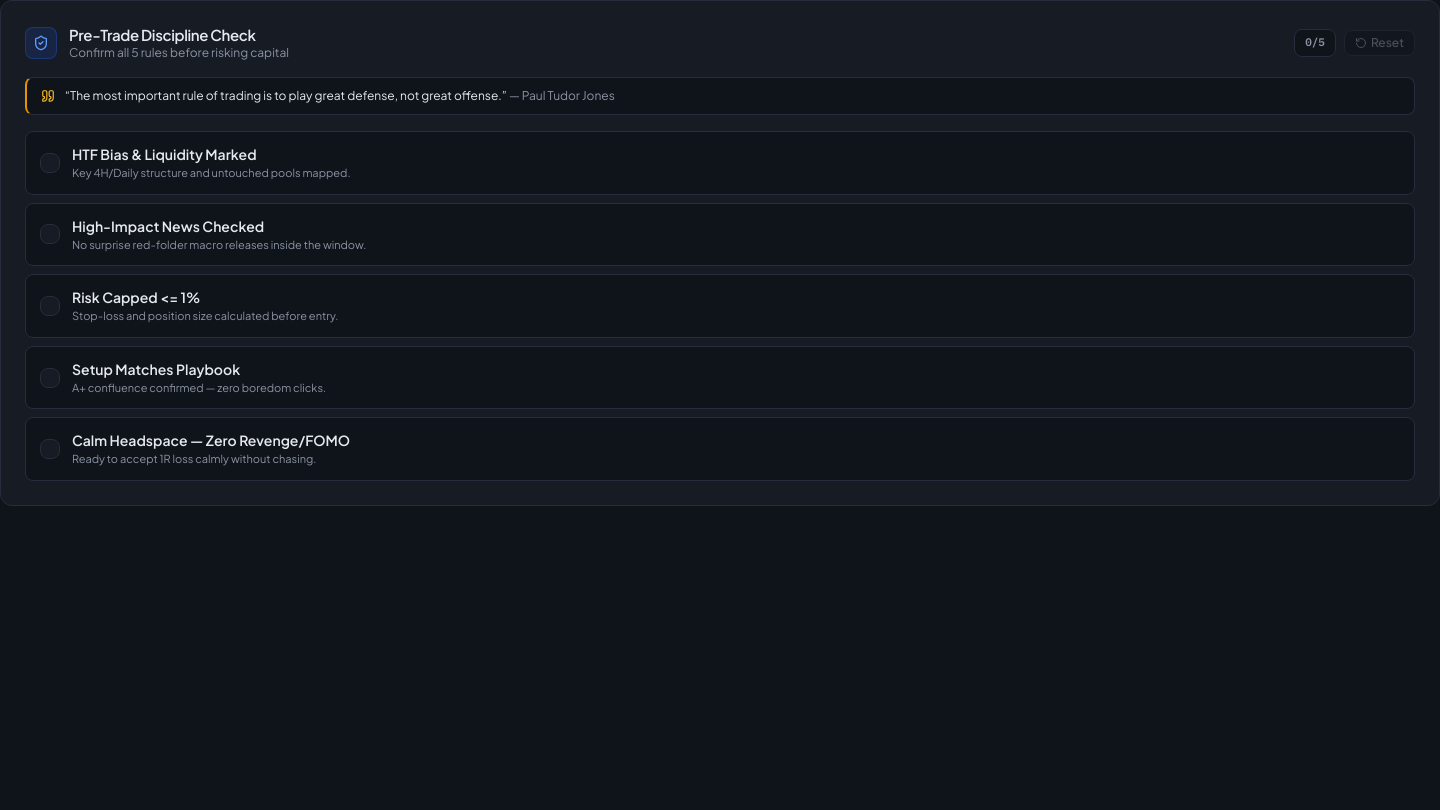
Learning Loop UI integration — PreTradeChecklistCard & ErrorBoundary › displays "Ready to Execute" after checking all 5 PreTradeChecklistCard items and clears cleanly on Reset
This screenshot has width=1440, height=810.
Expected: the heading "Pre-Trade Discipline Check" is shown, [69,25,256,44]
Expected: the text "Ready to Execute" is not shown
Click the checkbox that starts with "HTF Bias & Liquidity Marked".
click(164, 154)  # box [25,131,1415,195]
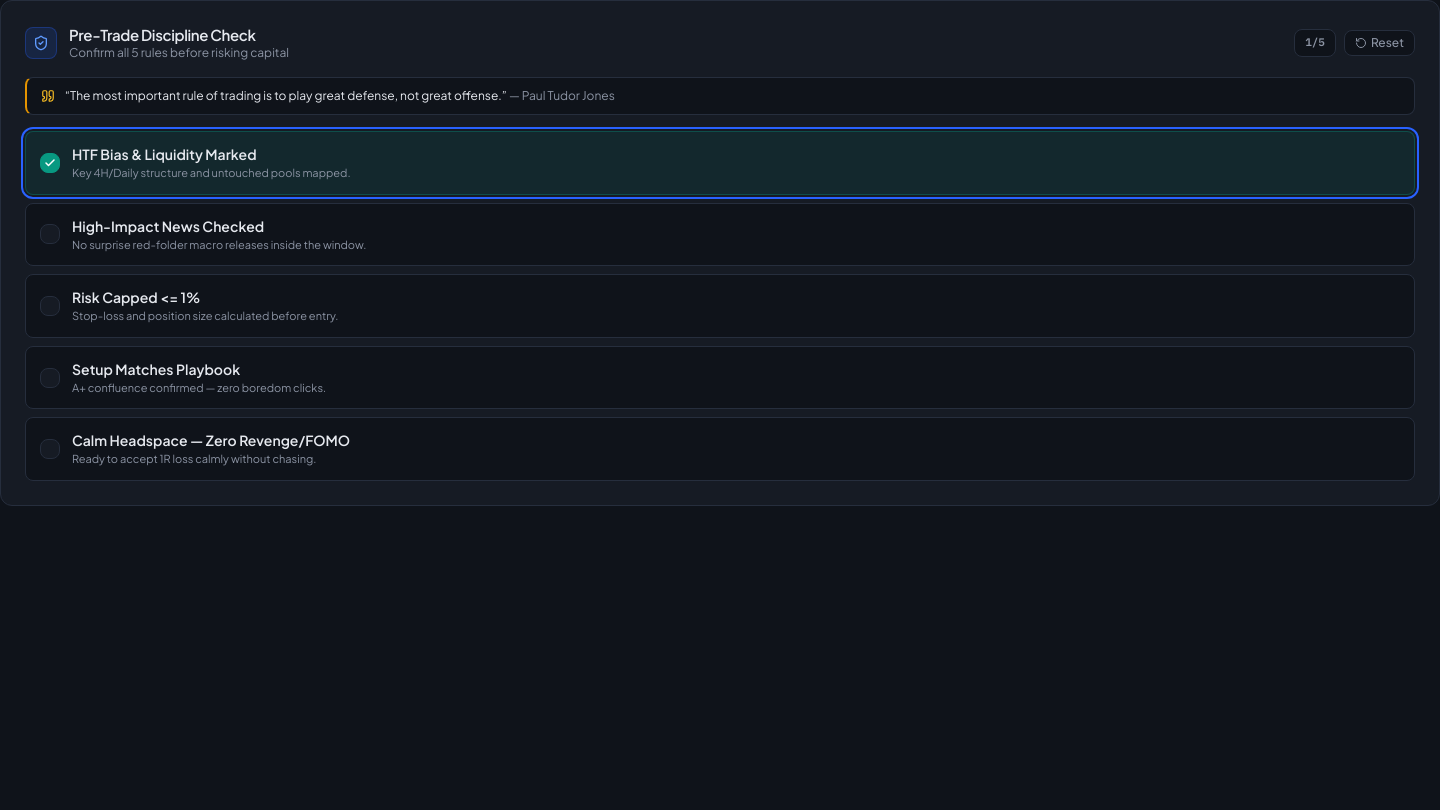
Click the checkbox that starts with "High-Impact News Checked".
click(168, 226)  # box [25,203,1415,266]
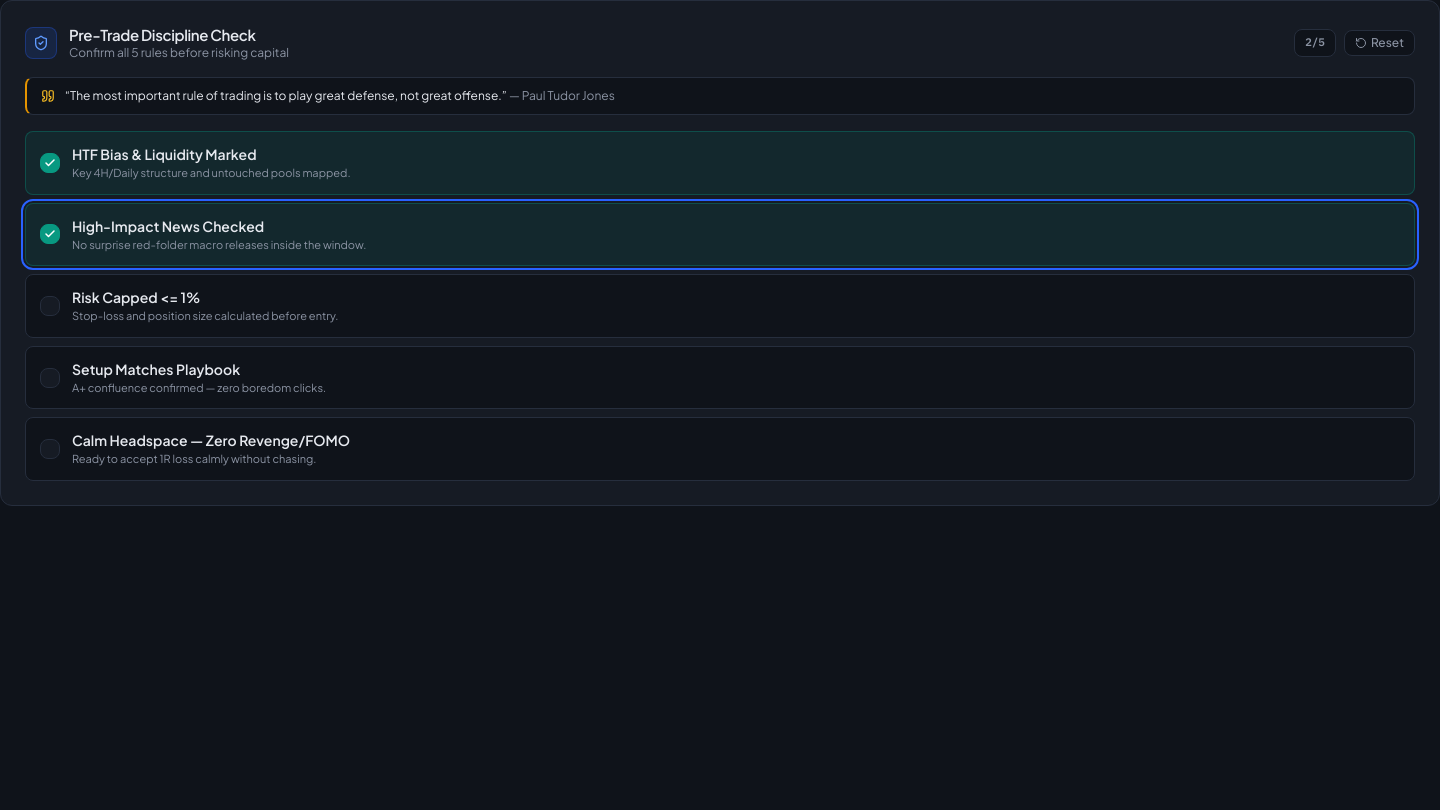
Click the checkbox that starts with "Risk Capped <= 1%".
click(136, 297)  # box [25,274,1415,338]
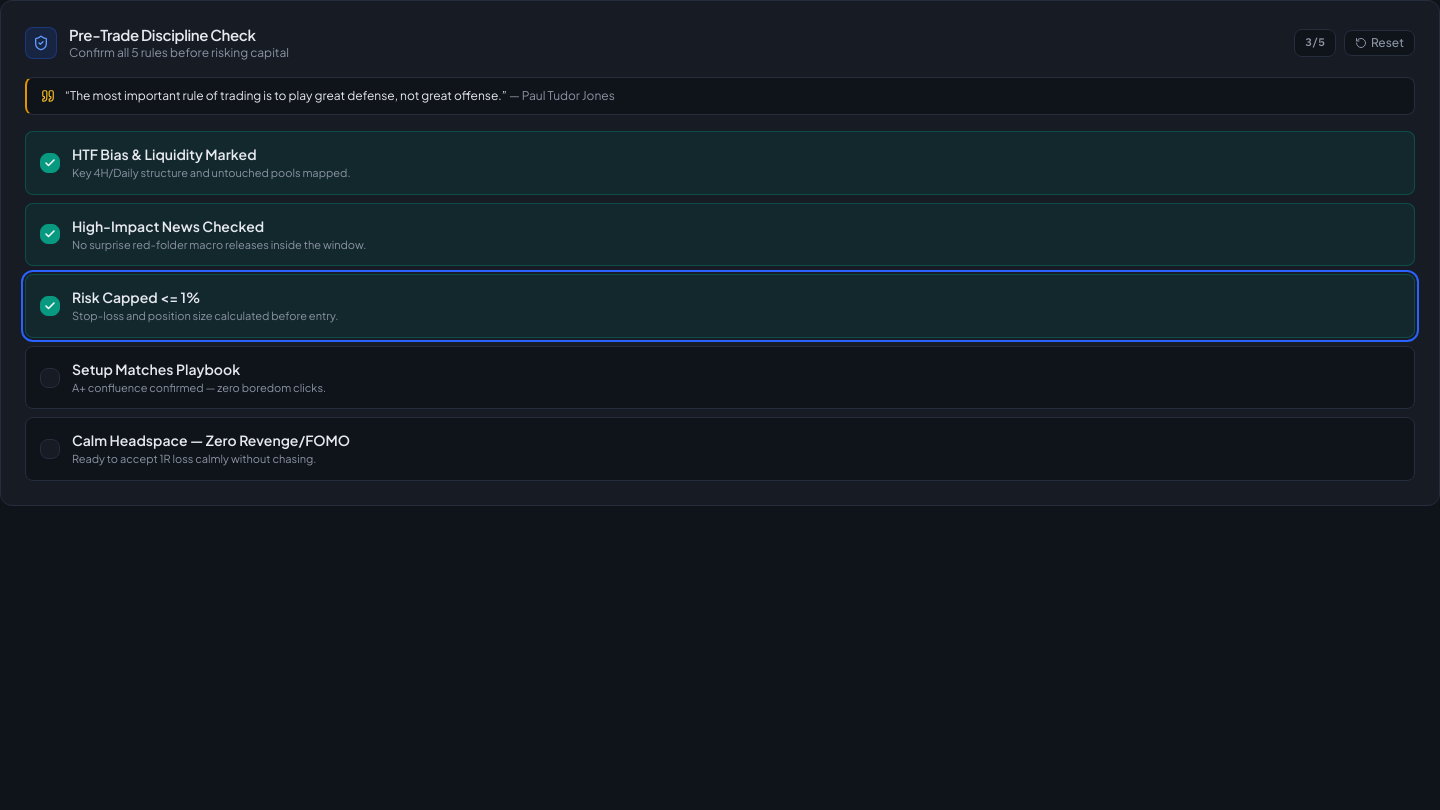
Click the checkbox that starts with "Setup Matches Playbook".
click(156, 369)  # box [25,346,1415,409]
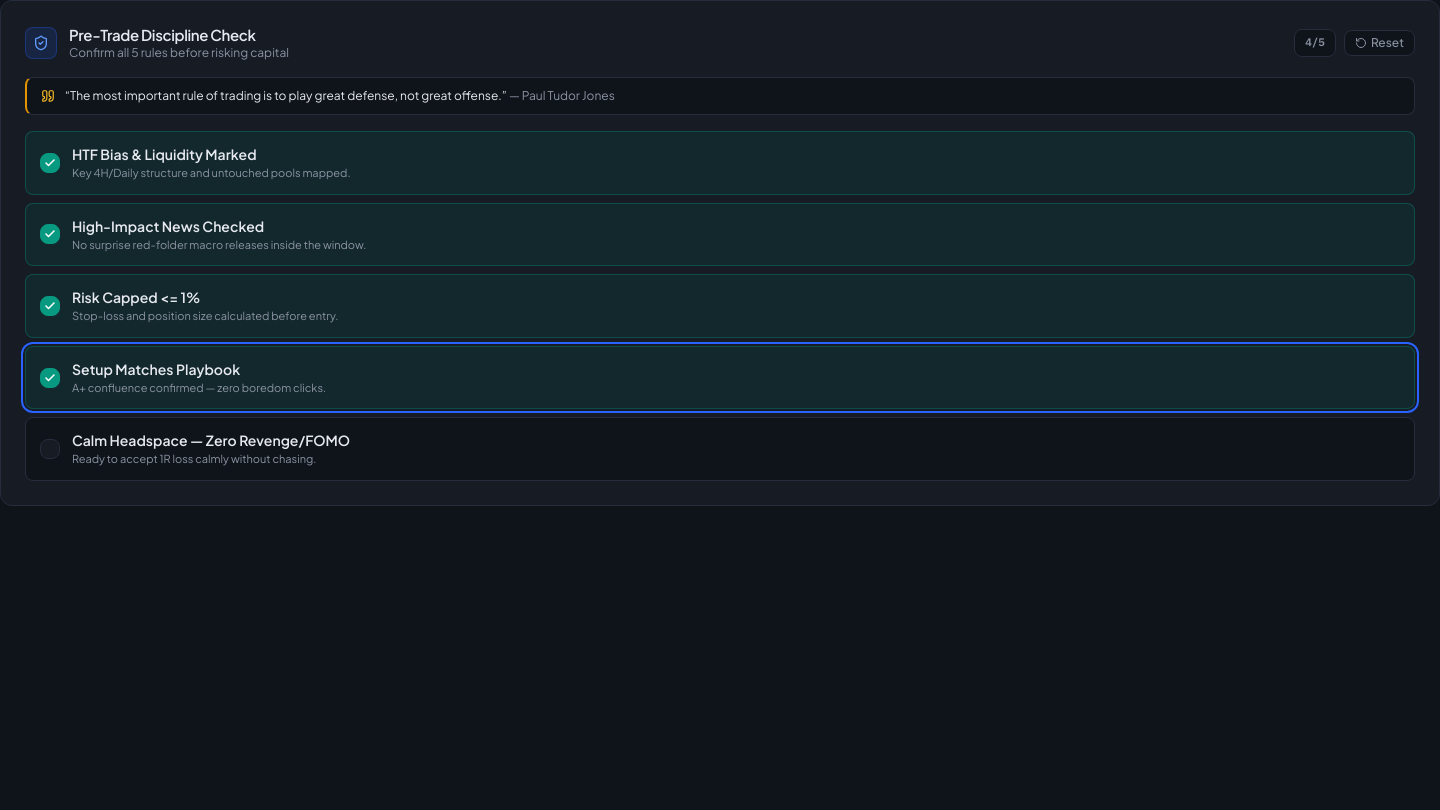
Click the checkbox that starts with "Calm Headspace — Zero Revenge/FOMO".
click(211, 440)  # box [25,417,1415,481]
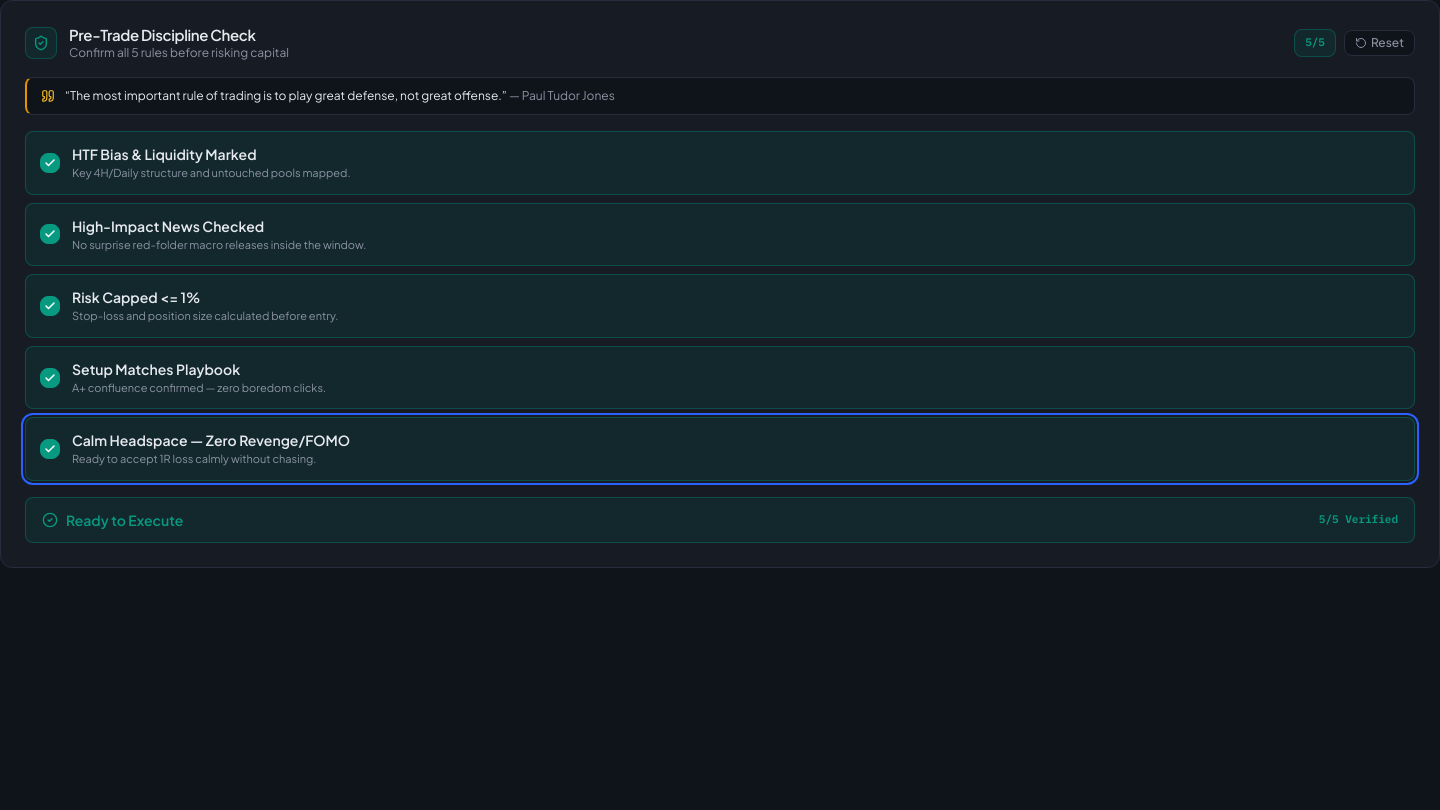
Expected: the button "Reset" is enabled
Expected: the text "Ready to Execute" is shown, [66,510,183,530]
Expected: the text "5/5" is shown, [1294,29,1336,57]
Click the button "Reset".
click(1380, 43)  # box [1344,30,1415,56]
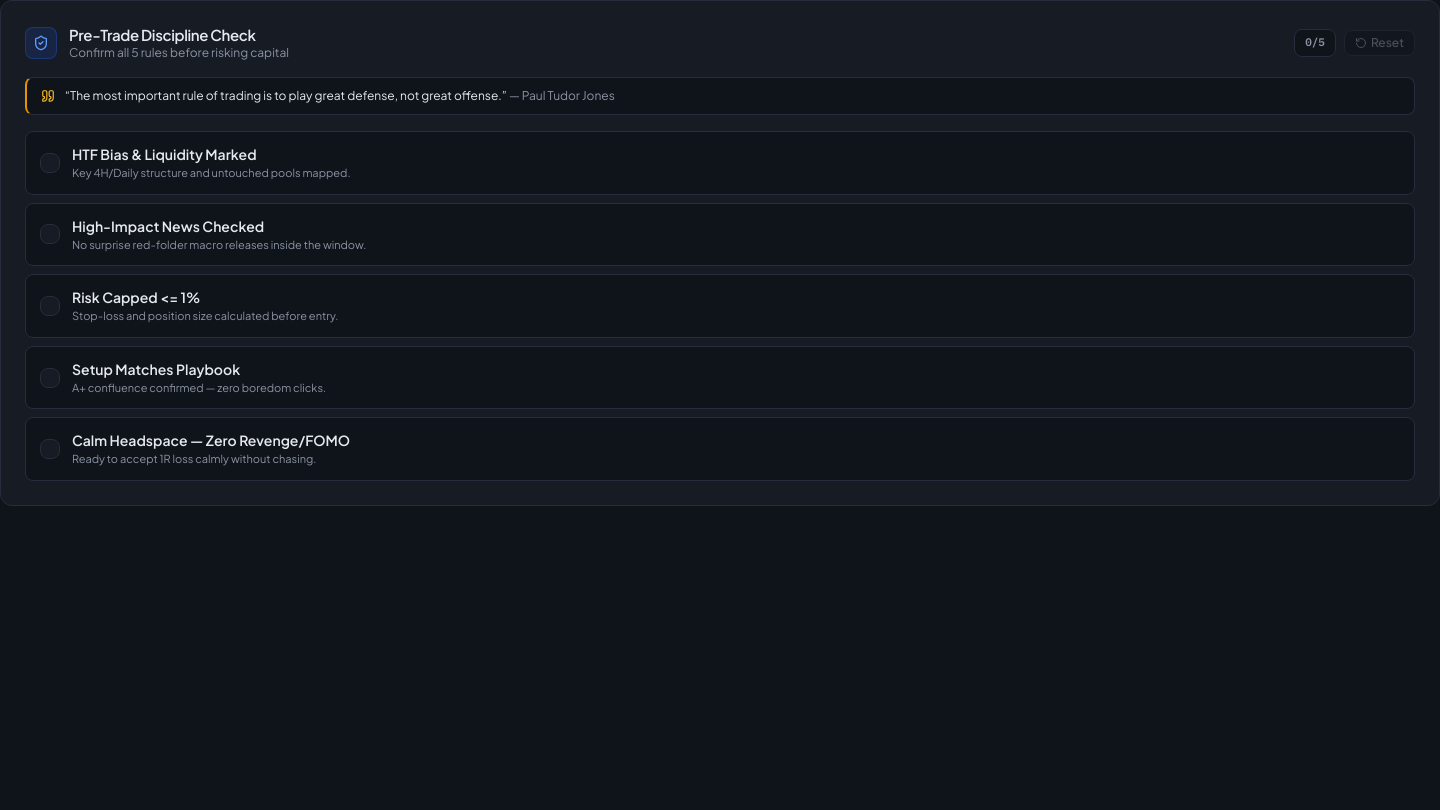
Expected: the text "Ready to Execute" is gone
Expected: the text "0/5" is shown, [1294,29,1336,57]
Expected: the button "Reset" is disabled, [1344,30,1415,56]
